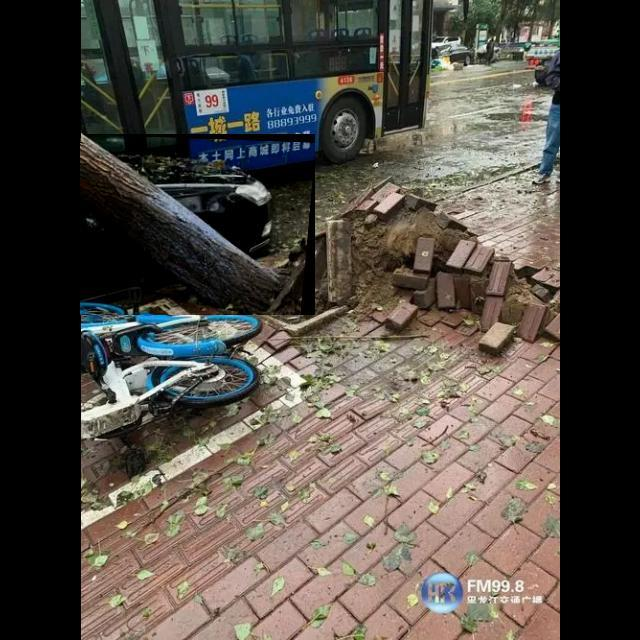fallen_tree: (80, 134, 316, 316)
